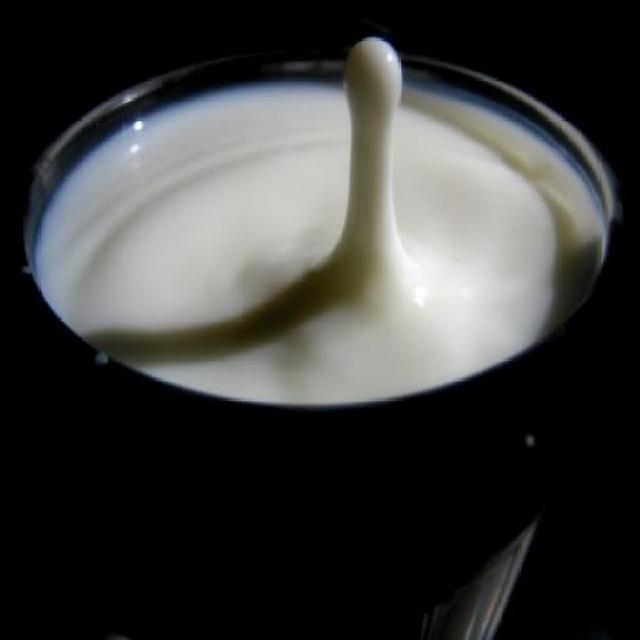Milk: (36, 36, 607, 410)
